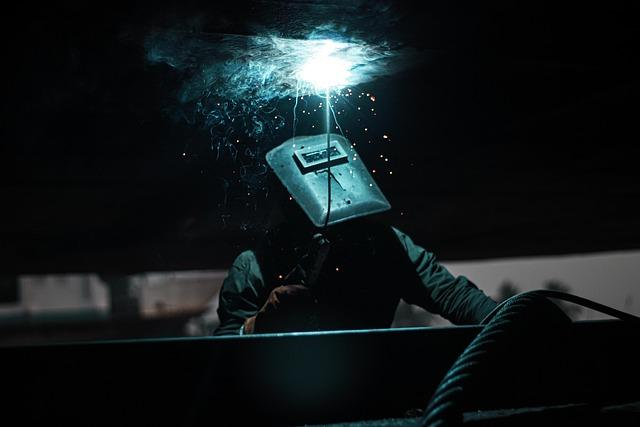Non_Gorille: (159, 26, 554, 379)
